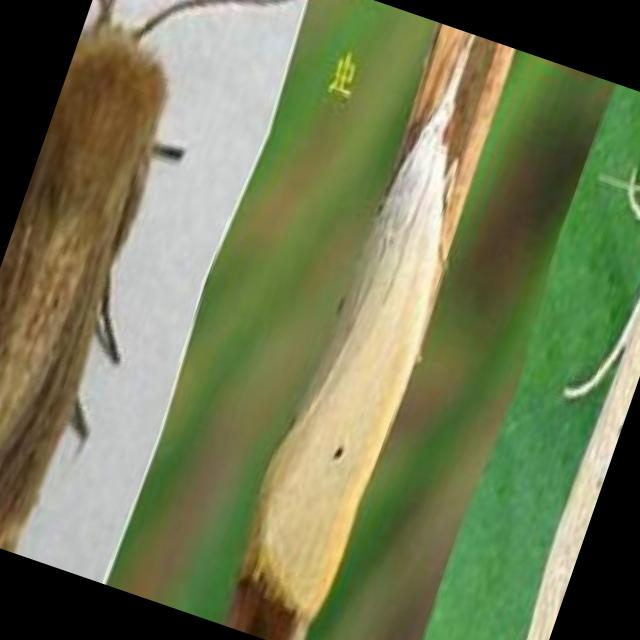stem-borer: (219, 16, 523, 635), (0, 0, 264, 570)
